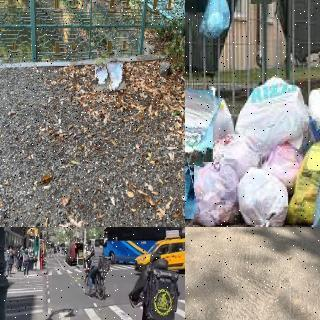Garbage: (236, 79, 308, 148), (238, 168, 289, 227), (185, 87, 218, 164), (185, 158, 197, 221), (106, 61, 125, 92), (94, 64, 111, 92), (308, 84, 320, 115)
